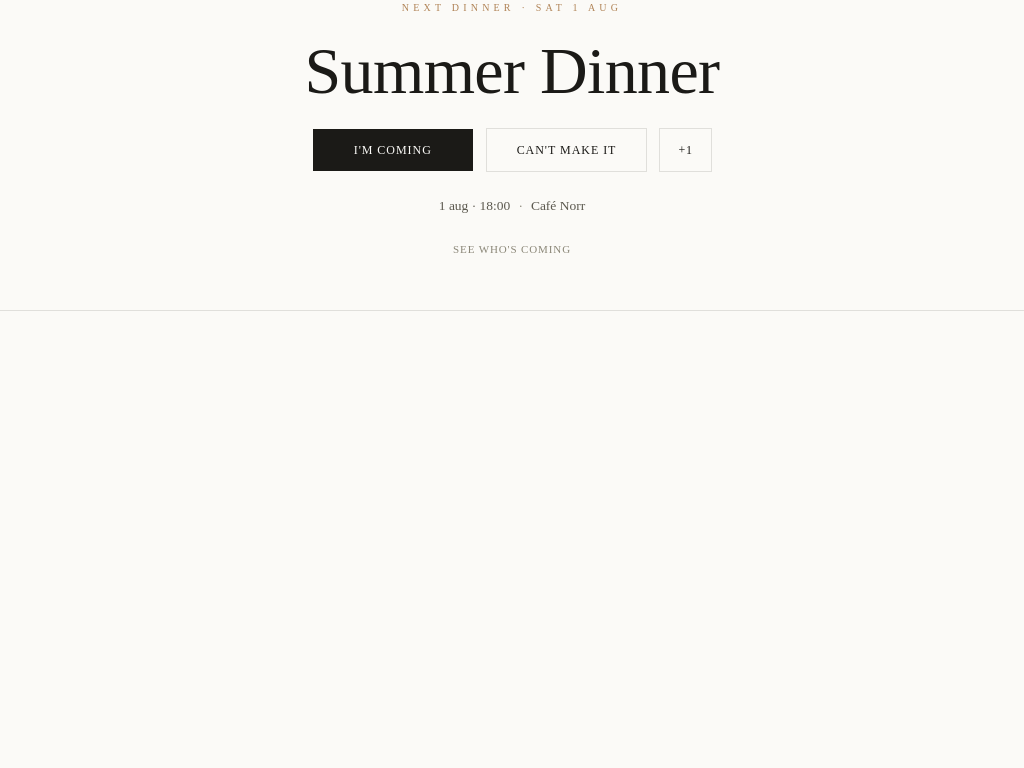
Scenario: DinnersGallery Component › disables saving a plus-one until a name is entered
Step 1. Click the button named "Add a +1" → (686, 150), box x1=659 y1=128 x2=712 y2=172
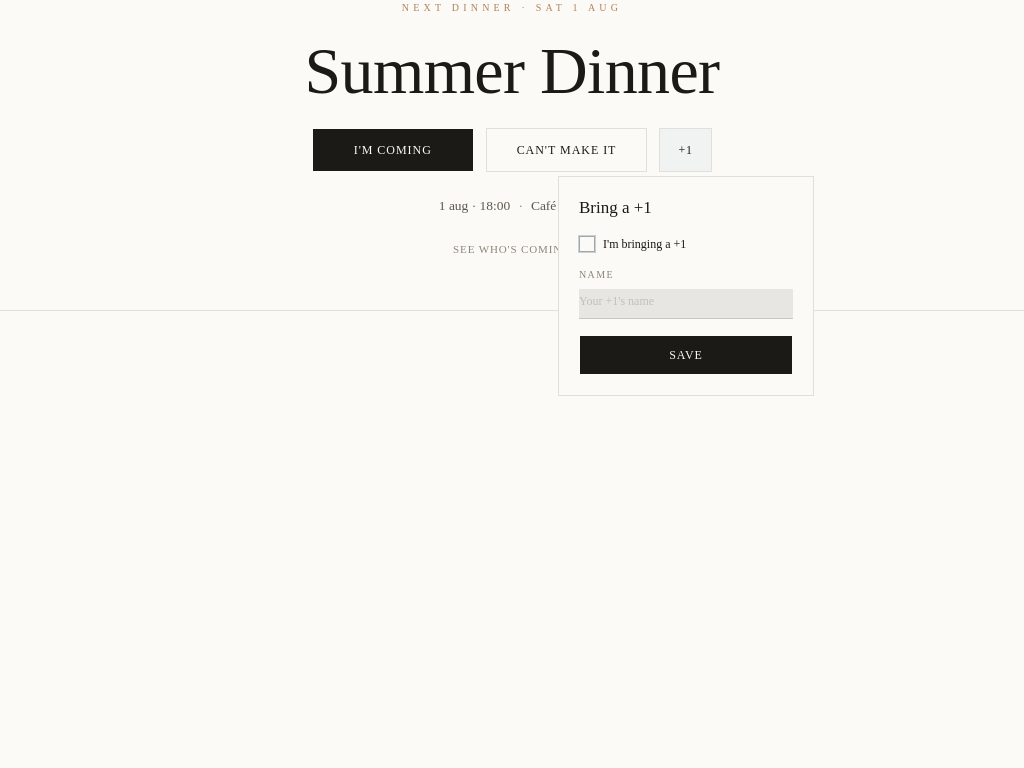
Step 2. Click the checkbox named "I'm bringing a +1" → (587, 244), box x1=579 y1=236 x2=595 y2=252
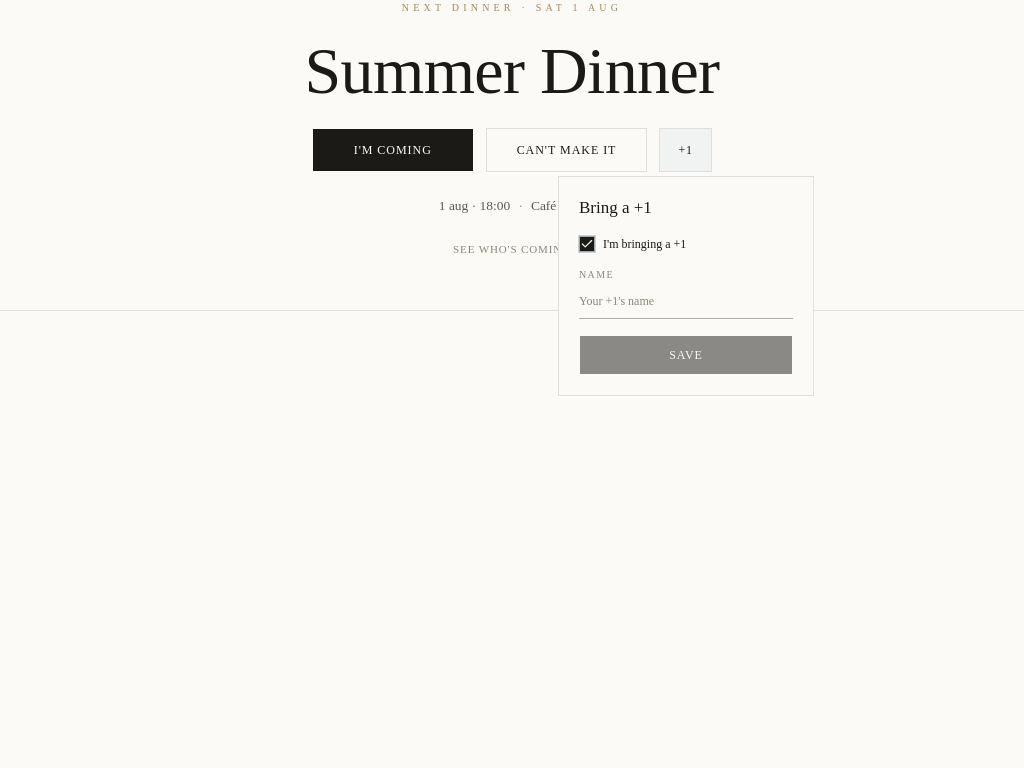
Result: the button "Save" is disabled at x1=579 y1=335 x2=793 y2=375
Step 3. Type "Sam" into the field labelled "Name" → (686, 304), box x1=579 y1=289 x2=793 y2=319
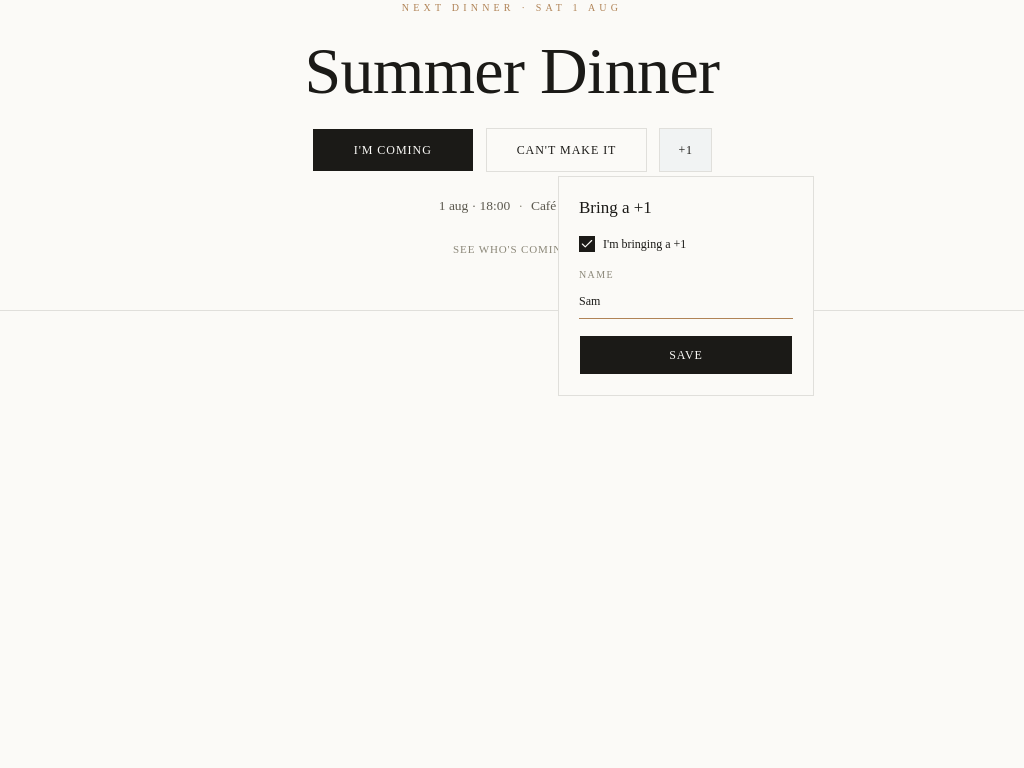
Result: the button "Save" is enabled at x1=579 y1=335 x2=793 y2=375
